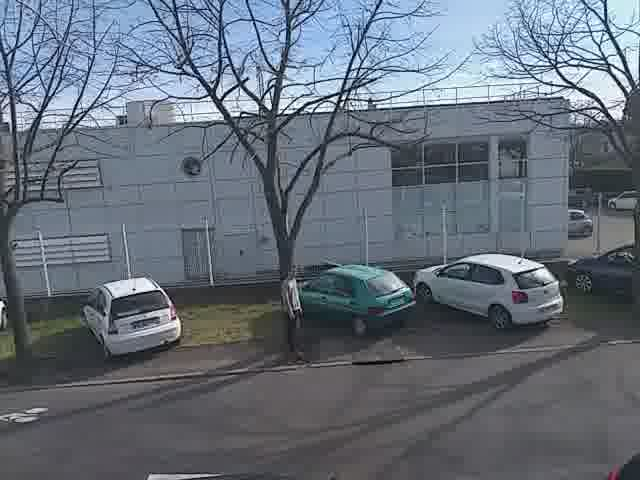persona: (273, 257, 308, 362)
